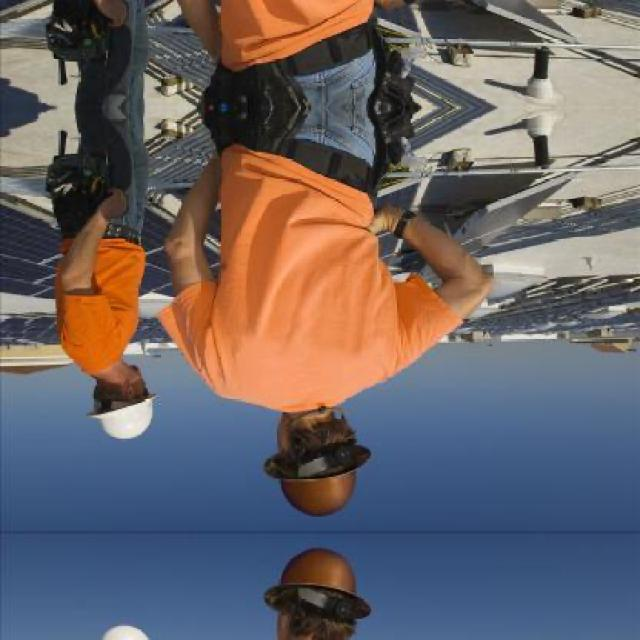con casco: (239, 382, 376, 538), (74, 318, 232, 453)
